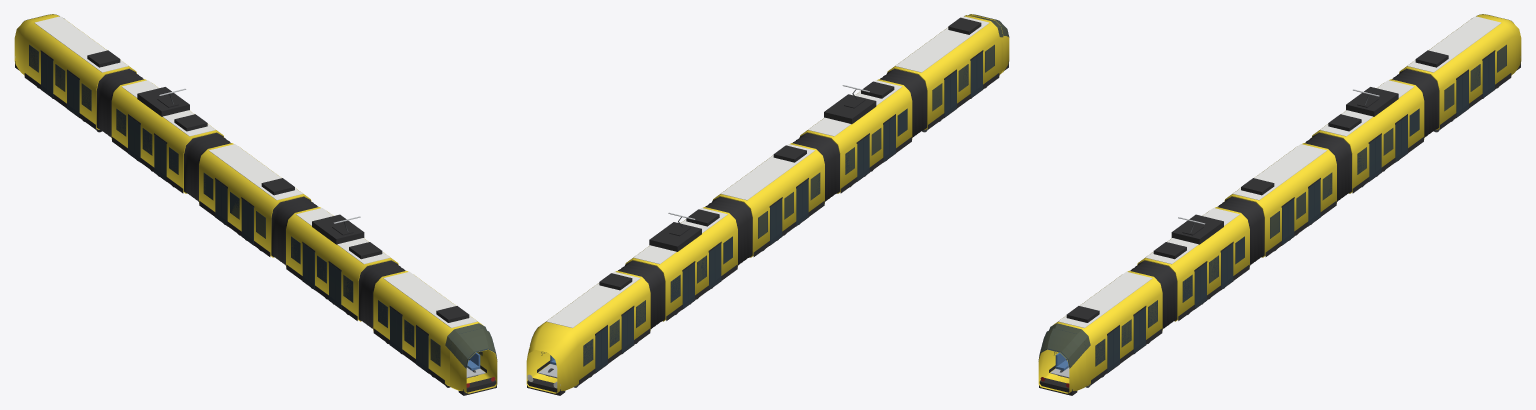
The model's file is tram.glb.
The picture shows the model from 3 angles, left to right: view 1: azimuth 30°, elevation 25°; view 2: azimuth 150°, elevation 25°; view 3: azimuth 330°, elevation 25°; orthographic projection.
Parts seen in each view (by area): view 1: tram; view 2: tram; view 3: tram.
Part boxes in pixels (left/top/right/bottom): tram: left=14, top=14, right=497, bottom=395; tram: left=526, top=14, right=1009, bottom=395; tram: left=1038, top=14, right=1521, bottom=395.
Size of the model in its own units: 2.44 by 4.36 by 44.55.
